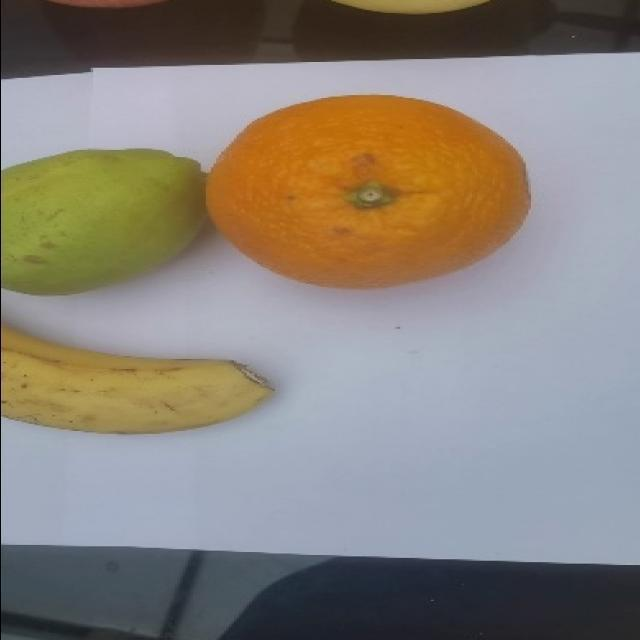Banana: (0, 322, 275, 434)
Orange: (204, 92, 531, 289)
